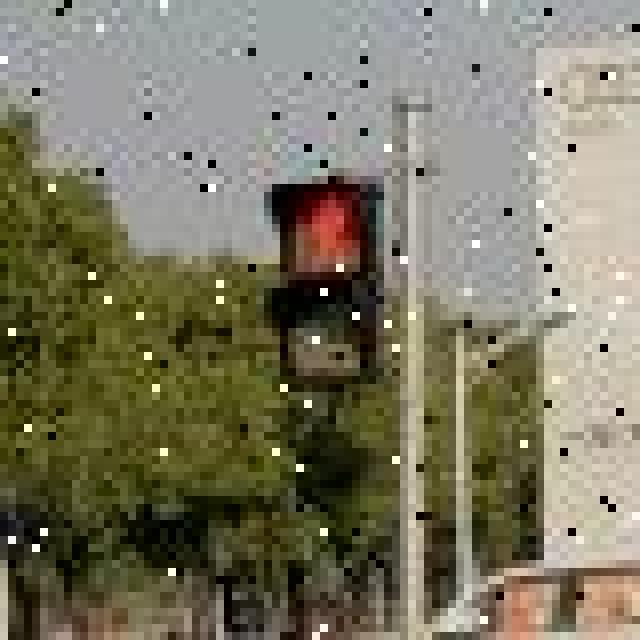redlight: (256, 160, 392, 368)
